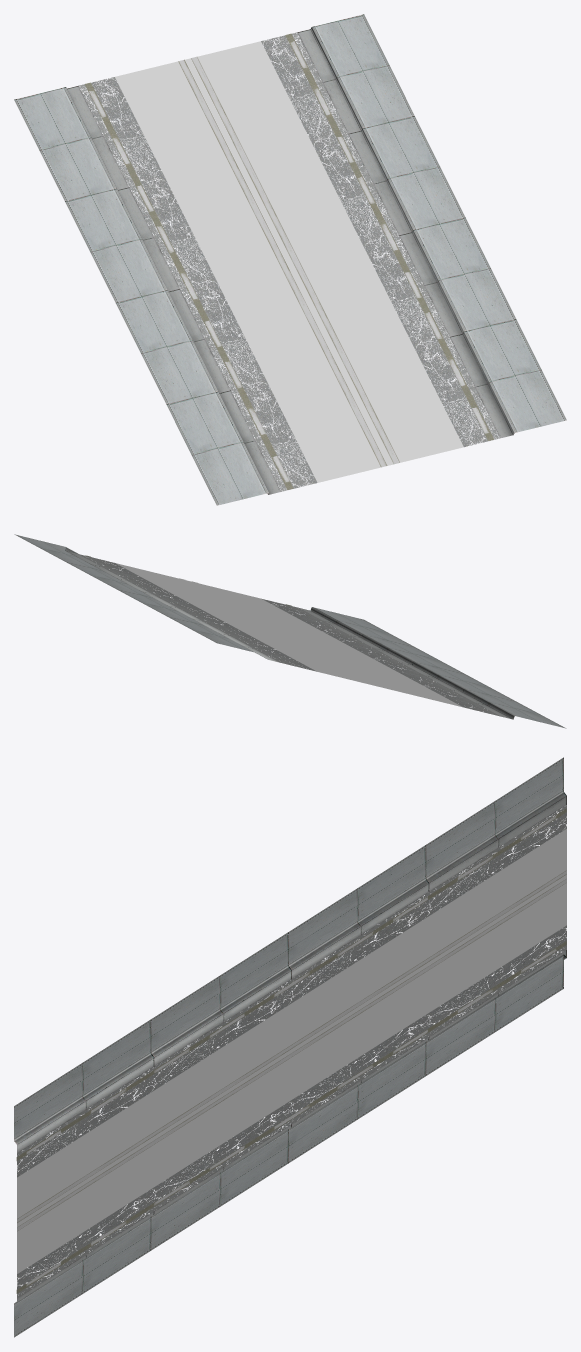
File: Road_Angle.obj
3 renders of one model, top to bottom at view 1: azimuth 30°, elevation 25°; view 2: azimuth 150°, elevation 25°; view 3: azimuth 270°, elevation 25°, orthographic. The views are drawn at different scales.
Parts seen in each view (by area): view 1: Road-Angled; view 2: Road-Angled; view 3: Road-Angled.
Boxes of the visible parts, x1,y1,x2,y2 form: Road-Angled: (14,14,566,505); Road-Angled: (14,534,566,728); Road-Angled: (14,757,566,1337).
Size of the model in its own units: 20 by 14.22 by 20.19.
